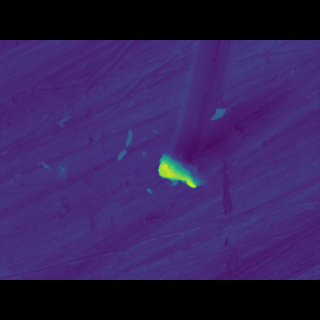Loch: (150, 151, 211, 185), (48, 159, 72, 178)
